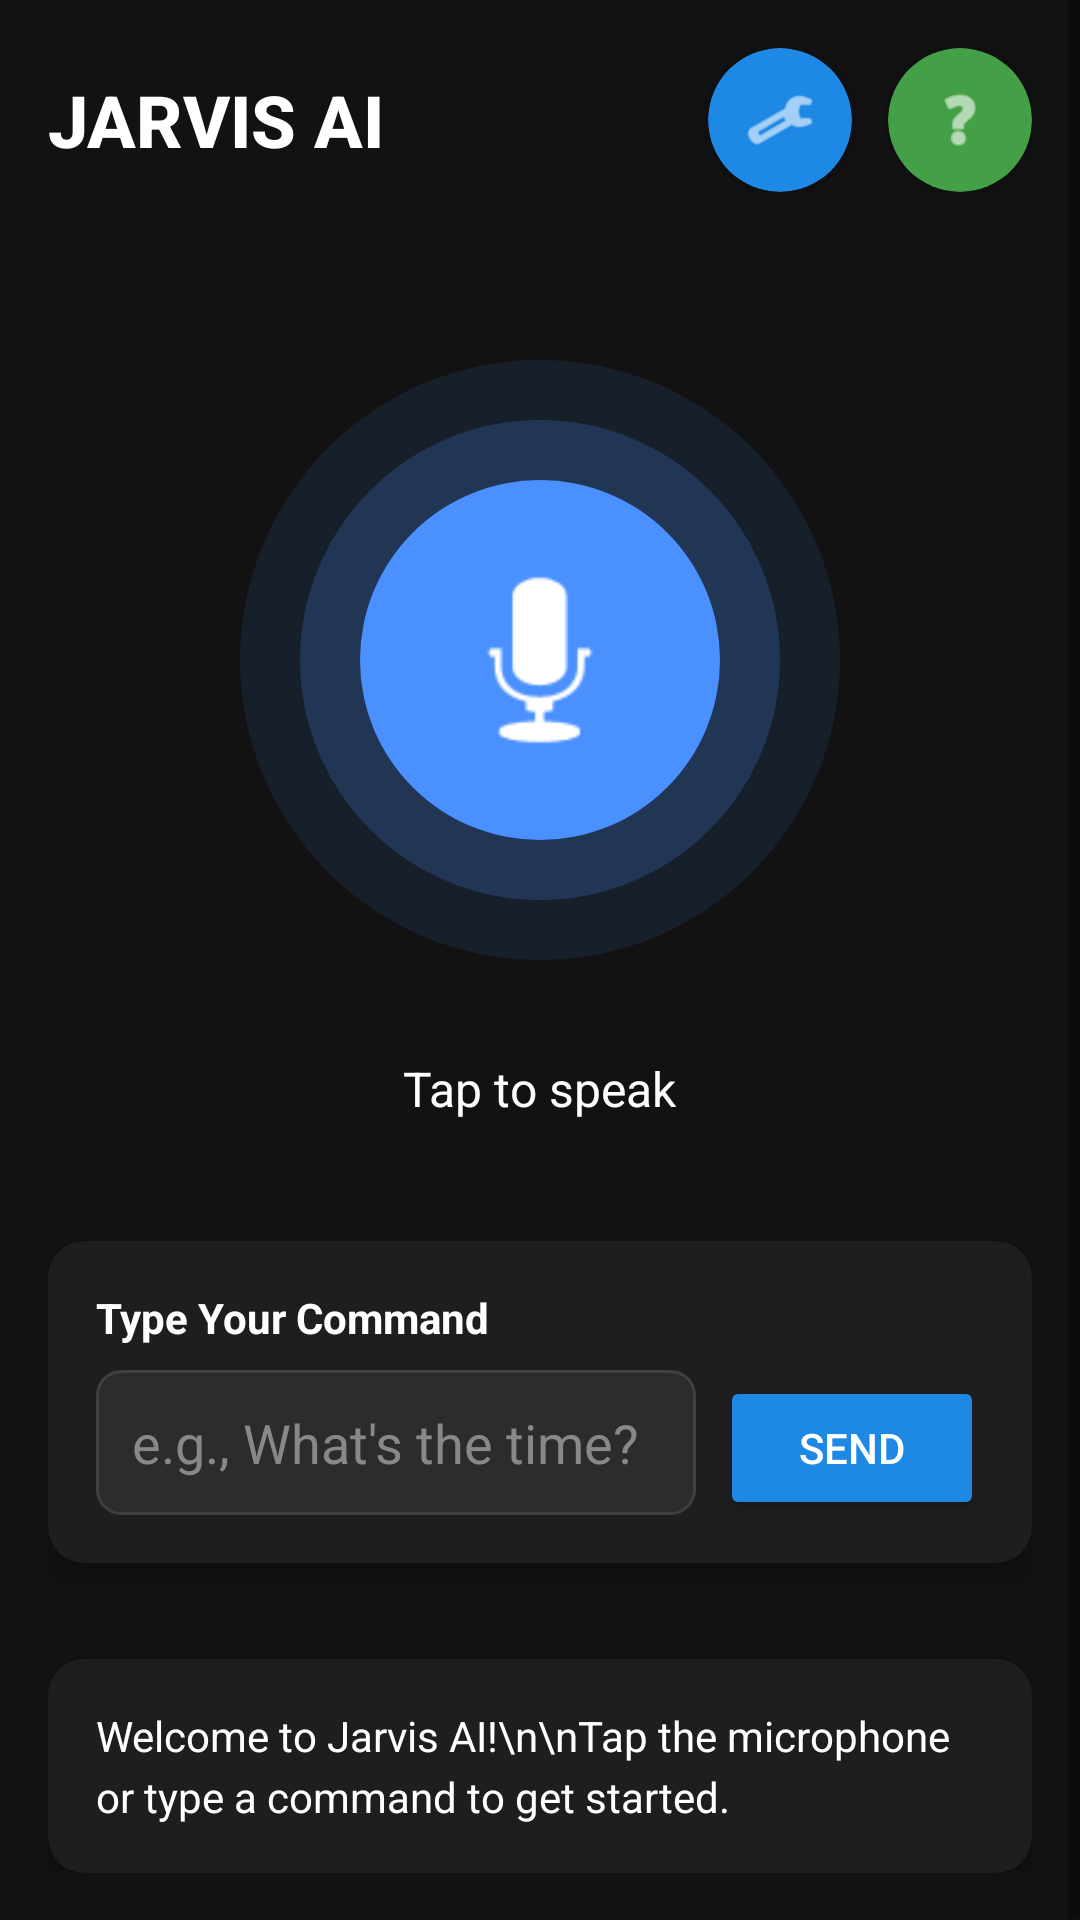

Screen size 1080×1920. Icon name, then its box in pixels as [left=x1, top=y1, right=x2, bottom=y2]:
help: [left=944, top=94, right=976, bottom=146]
preferences: [left=747, top=95, right=812, bottom=145]
speak now: [left=487, top=577, right=593, bottom=743]
